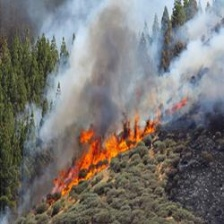fire: (56, 119, 163, 201)
smoke: (43, 5, 221, 114)
